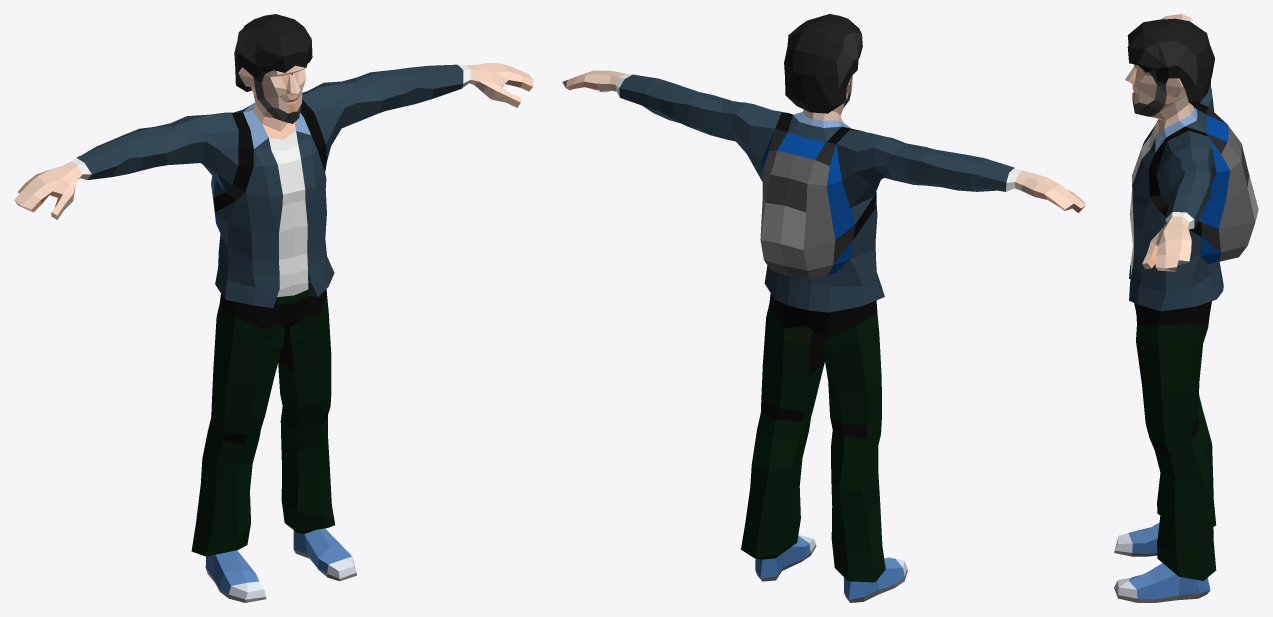
File: Connor_(Concaine).fbx
The picture shows the model from 3 angles, left to right: view 1: azimuth 30°, elevation 25°; view 2: azimuth 150°, elevation 25°; view 3: azimuth 270°, elevation 25°; orthographic projection.
Parts seen in each view (by area): view 1: lpMale_casual_F; view 2: lpMale_casual_F; view 3: lpMale_casual_F.
Boxes of the visible parts, box(x1,y1,x2,y2) form: lpMale_casual_F: box(14, 14, 533, 602); lpMale_casual_F: box(562, 14, 1085, 602); lpMale_casual_F: box(1114, 14, 1258, 602).
Size of the model in its own units: 175 by 180 by 42.63.
